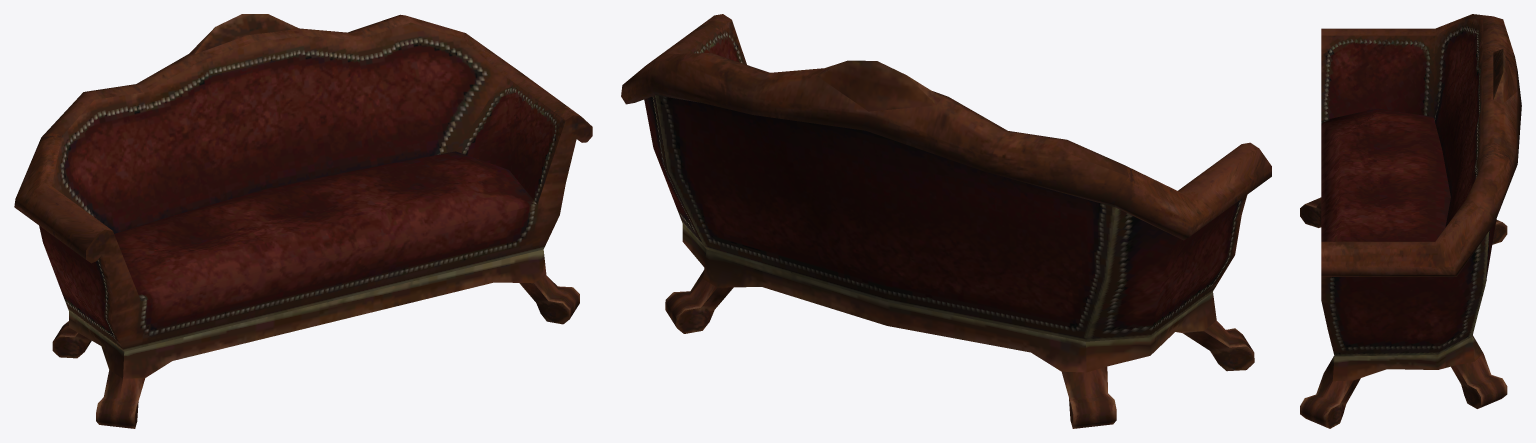
File: sofa_red.DAE
3 views of the same model, side by side, from view 1: azimuth 30°, elevation 25°; view 2: azimuth 150°, elevation 25°; view 3: azimuth 270°, elevation 25° (orthographic). The views are drawn at different scales.
Visible parts, largest first — view 1: polySurface2; view 2: polySurface2; view 3: polySurface2.
Boxes of the visible parts, x1=… form: polySurface2: x1=14, y1=14, x2=592, y2=428; polySurface2: x1=621, y1=14, x2=1271, y2=428; polySurface2: x1=1300, y1=14, x2=1521, y2=428.
Size of the model in its own units: 2.4 by 1.29 by 0.9764.
